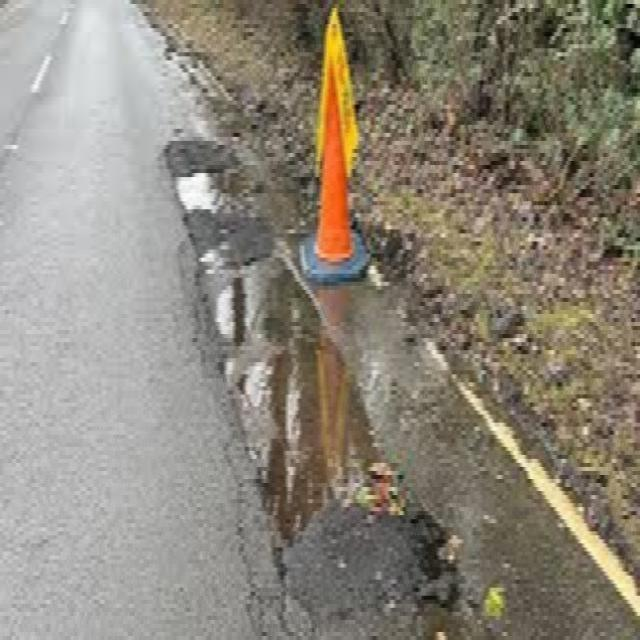Pothole: (180, 233, 417, 592), (136, 135, 276, 218), (402, 557, 505, 640)
